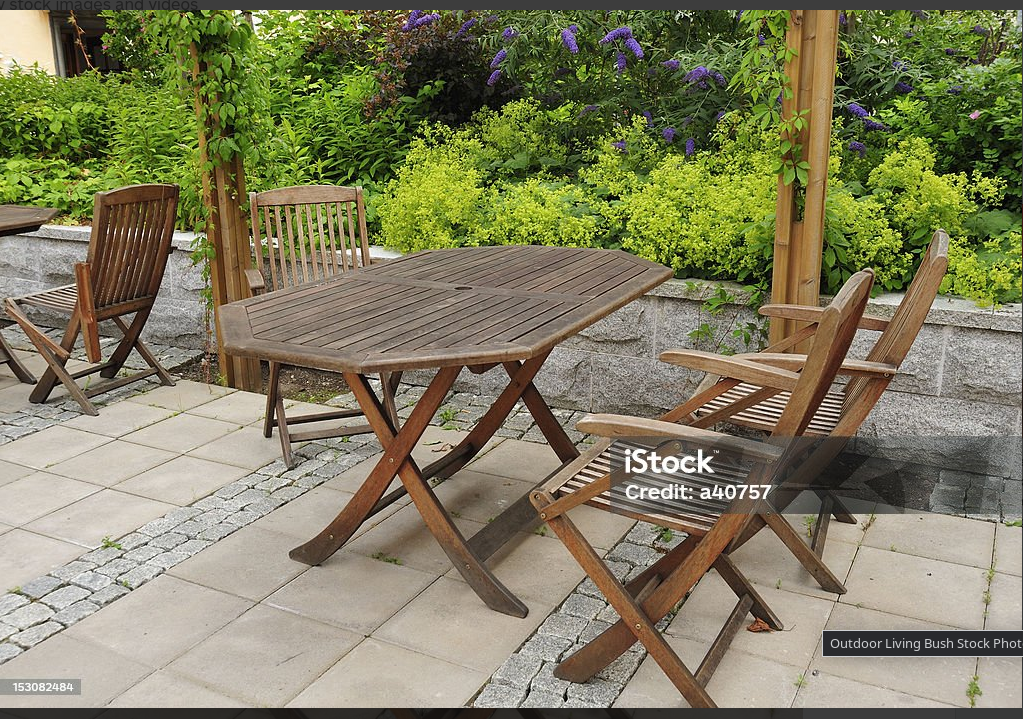obstacle: (208, 244, 666, 614), (533, 270, 871, 680), (26, 182, 183, 408), (239, 185, 380, 284)
